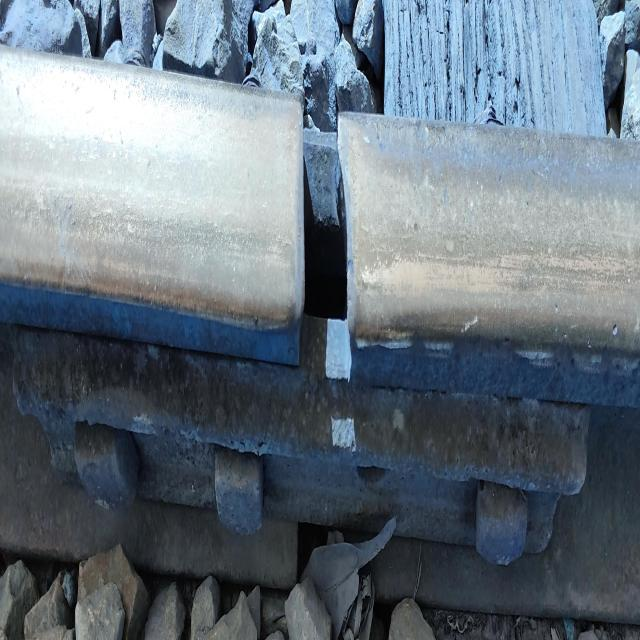Defective Joint: (58, 344, 590, 589)
